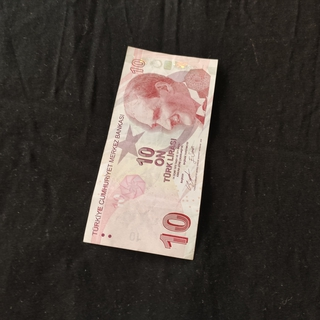10TLFront: (81, 44, 219, 261)
